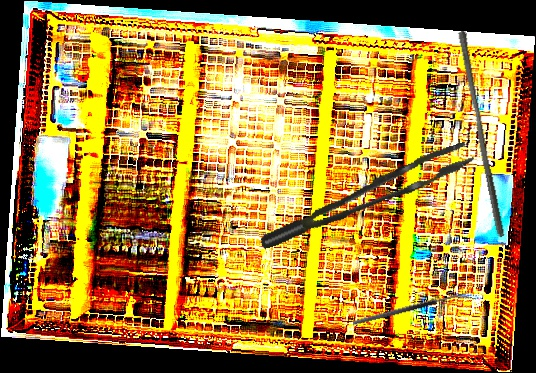Hook Surgical: (350, 283, 472, 327)
Pusher: (450, 30, 513, 238)
Tissue Forceps: (250, 140, 482, 250)
